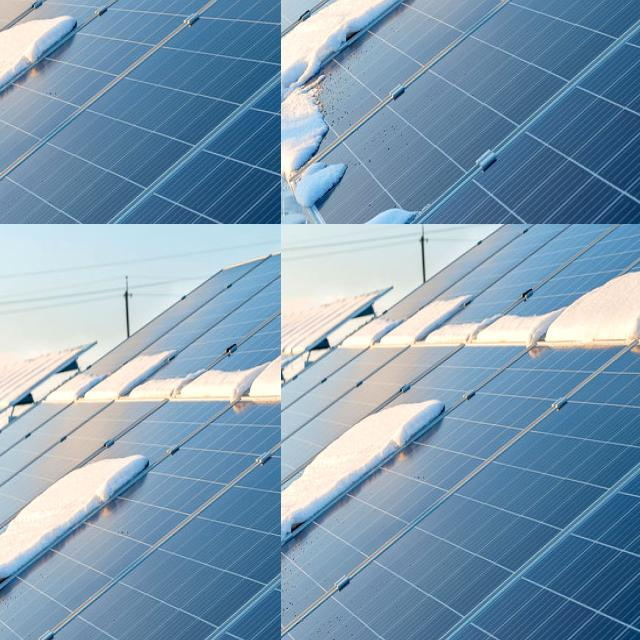panel: (294, 386, 458, 484), (281, 289, 379, 401), (408, 288, 542, 367), (565, 240, 640, 368), (506, 0, 578, 55), (603, 0, 640, 84), (557, 0, 623, 46), (582, 0, 640, 49), (357, 0, 421, 43), (425, 0, 490, 40), (281, 503, 331, 555), (502, 0, 566, 35)
